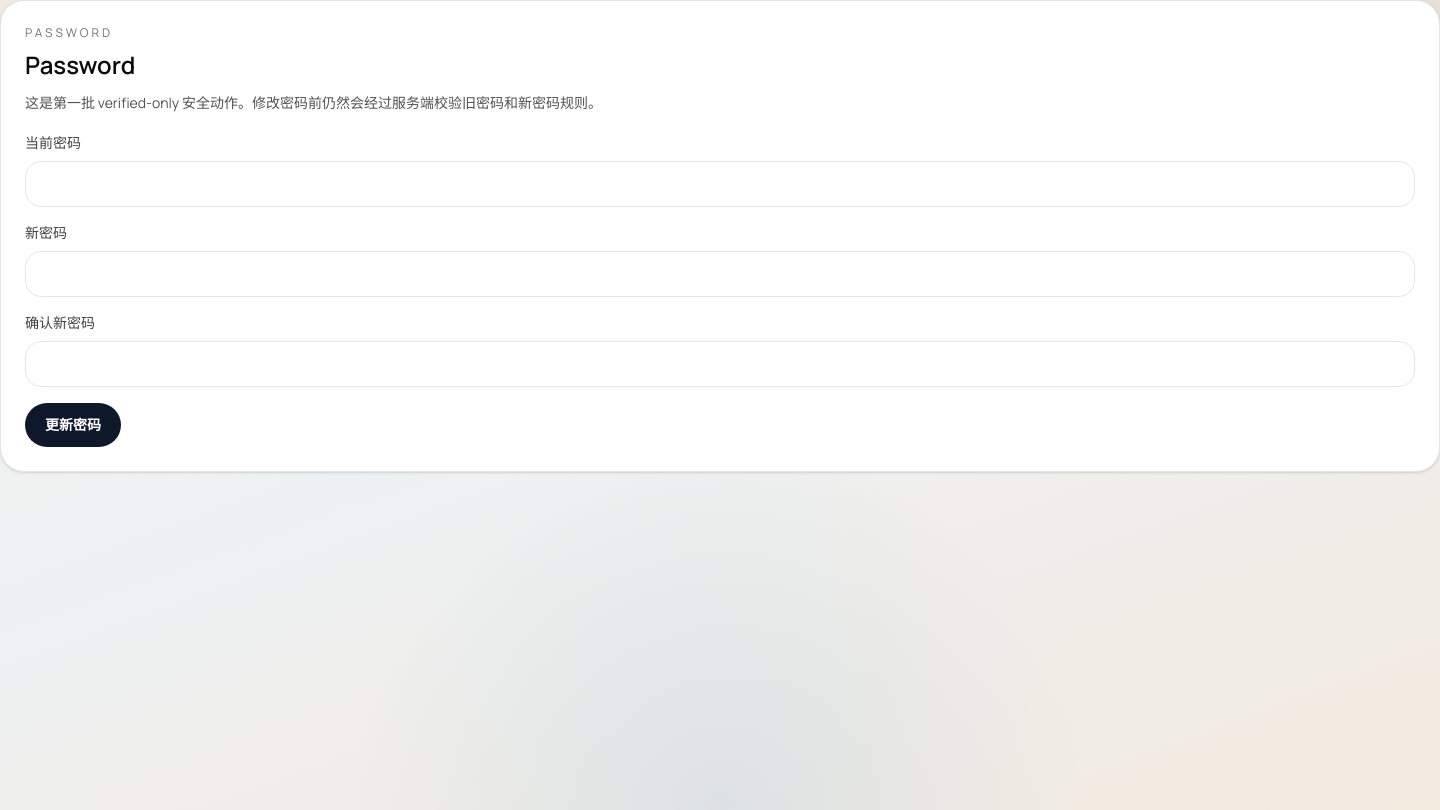
Test: PasswordForm › submits successfully and shows success feedback
Type "old-password" into the password field labelled "当前密码". click: (720, 184)
box: left=25, top=161, right=1415, bottom=207
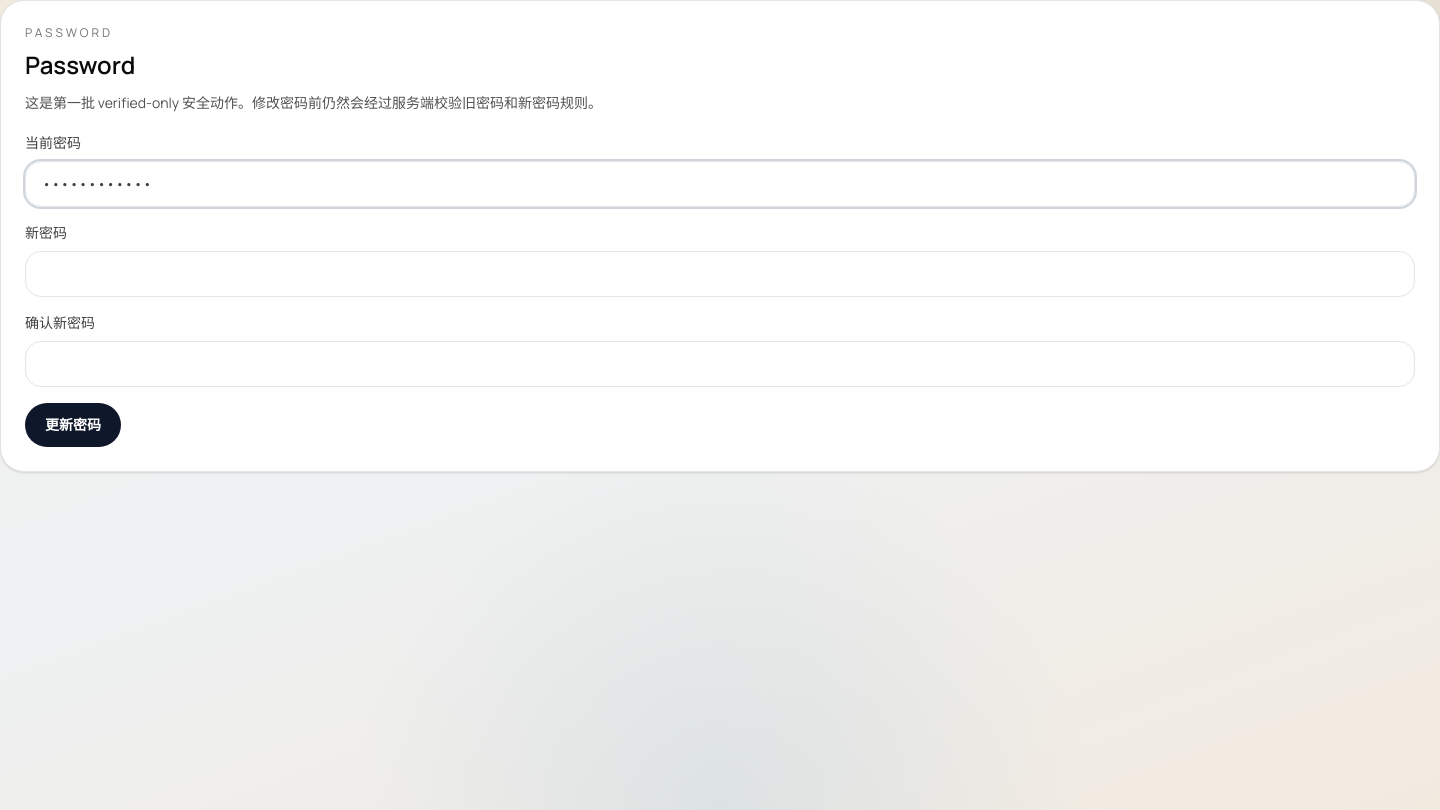
Type "brand-new-password" into the password field labelled "新密码". click: (720, 274)
box: left=25, top=251, right=1415, bottom=297
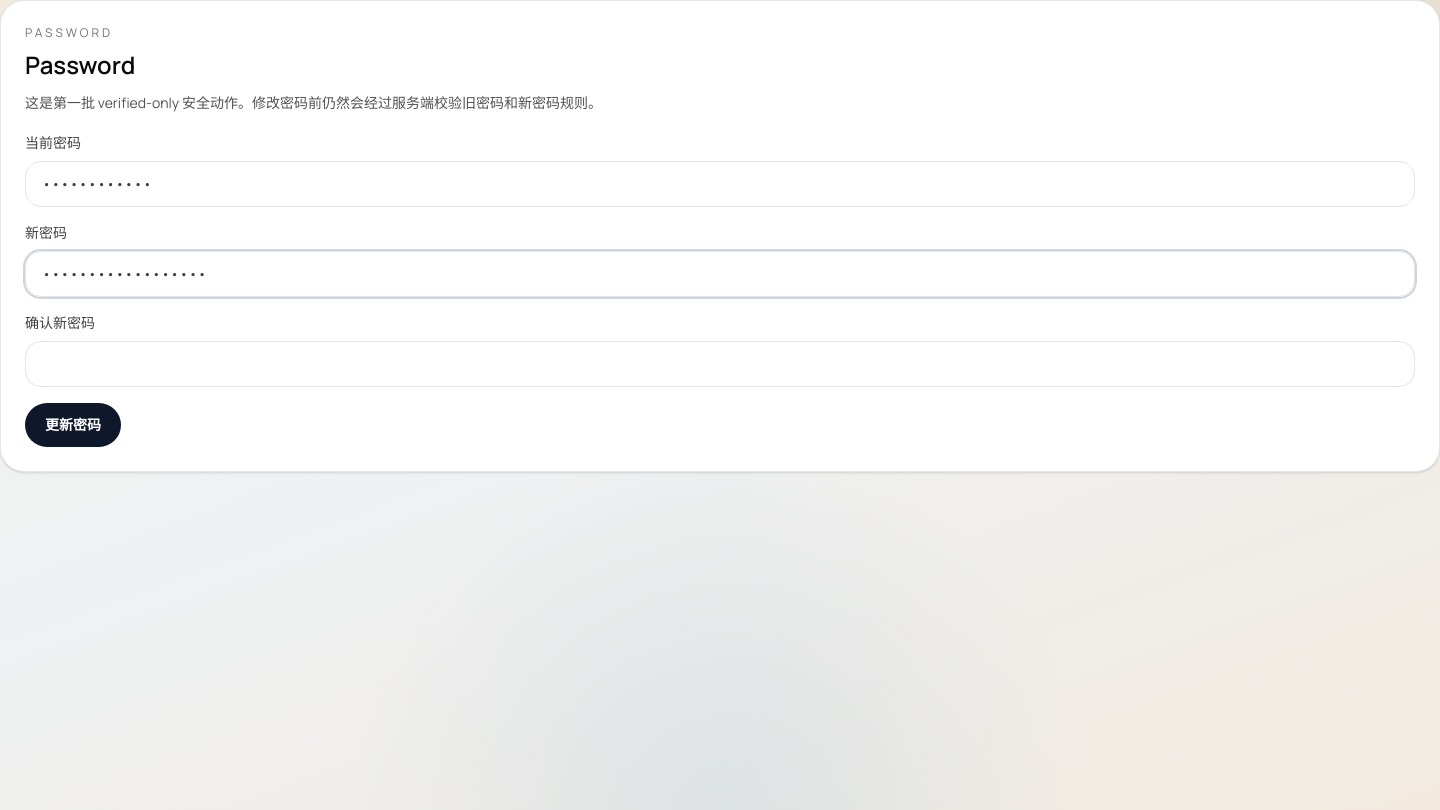
Type "brand-new-password" into the password field labelled "确认新密码". click: (720, 364)
box: left=25, top=341, right=1415, bottom=387
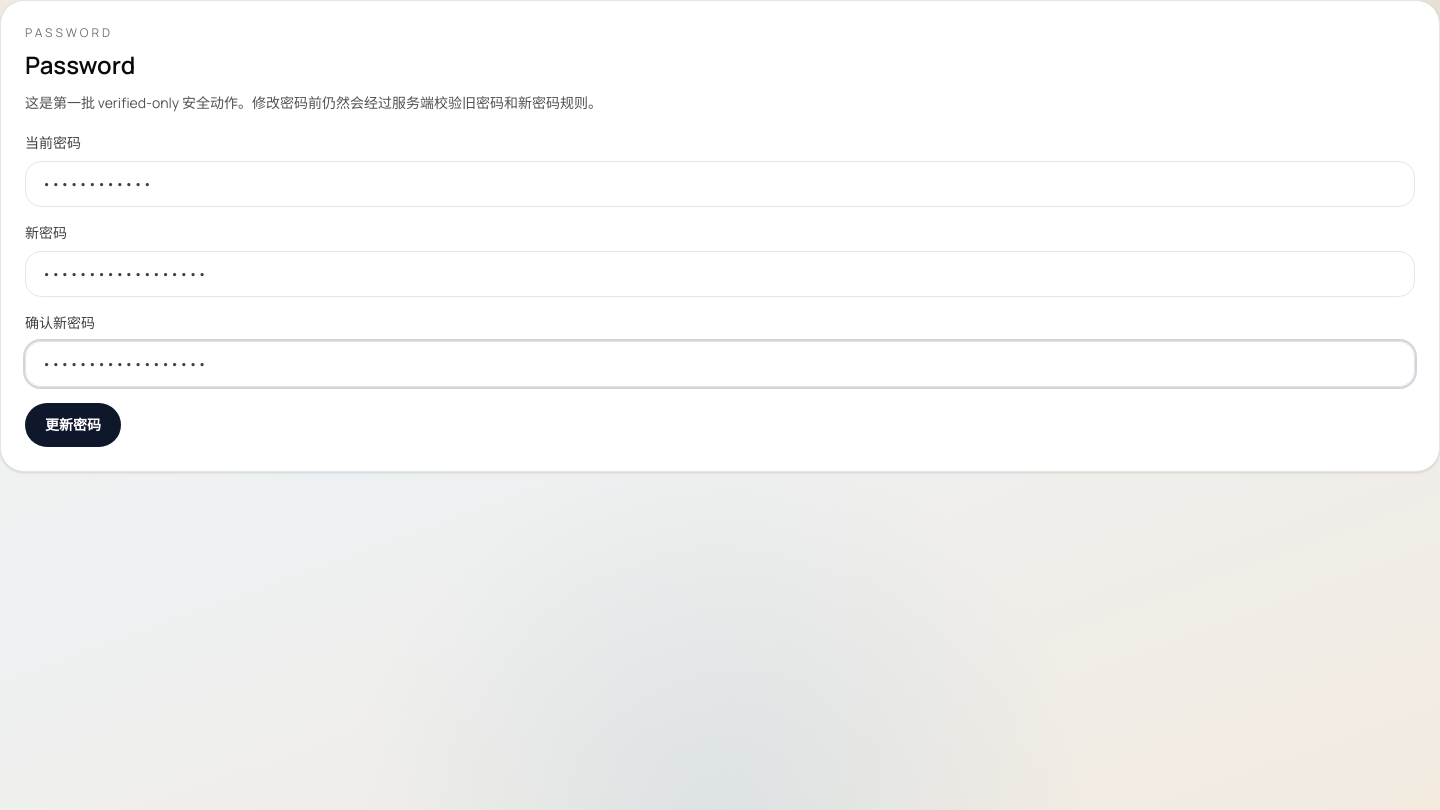
Click the button "更新密码". click: (73, 425)
box: left=25, top=403, right=121, bottom=447
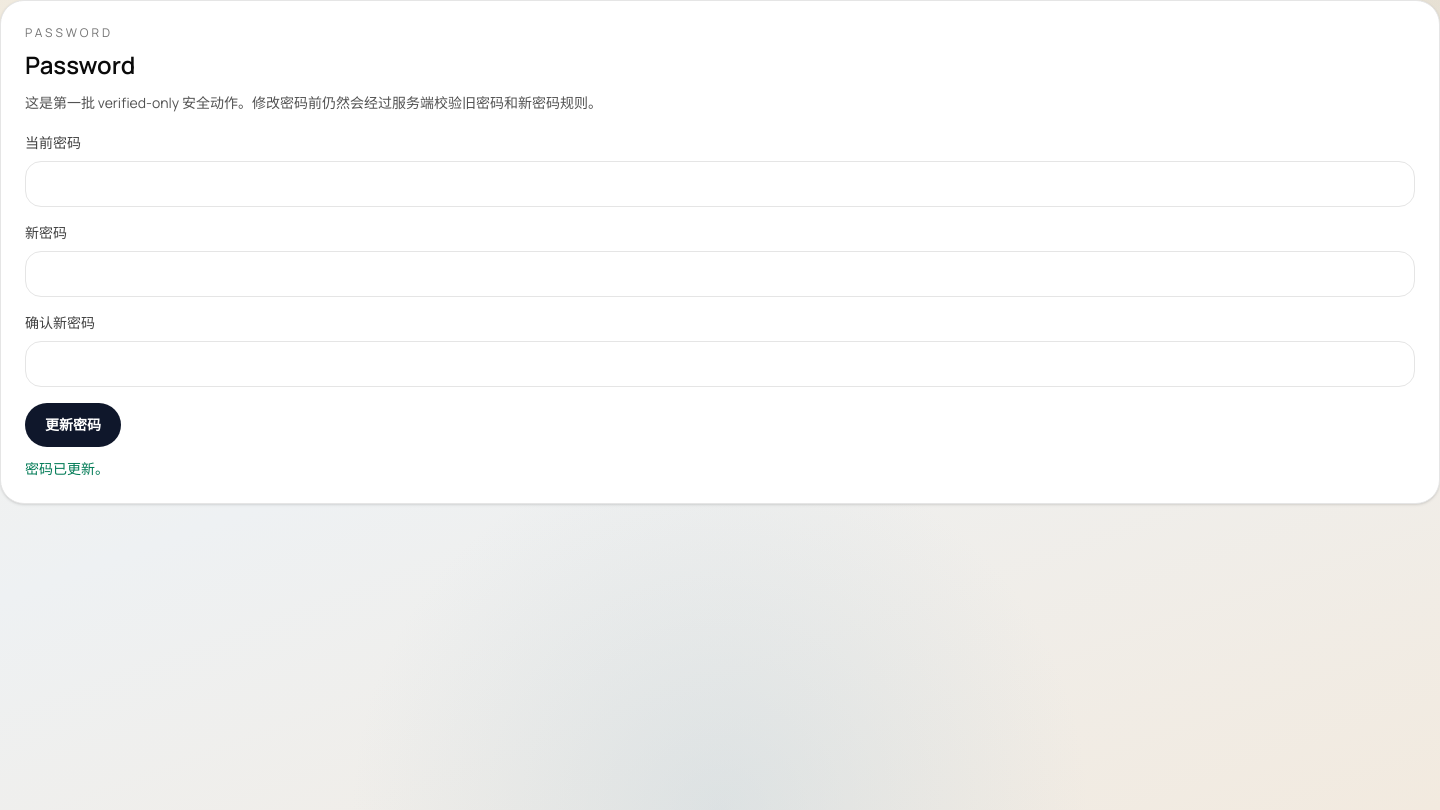
Expected: the text "密码已更新。" is shown, left=25, top=459, right=109, bottom=479
